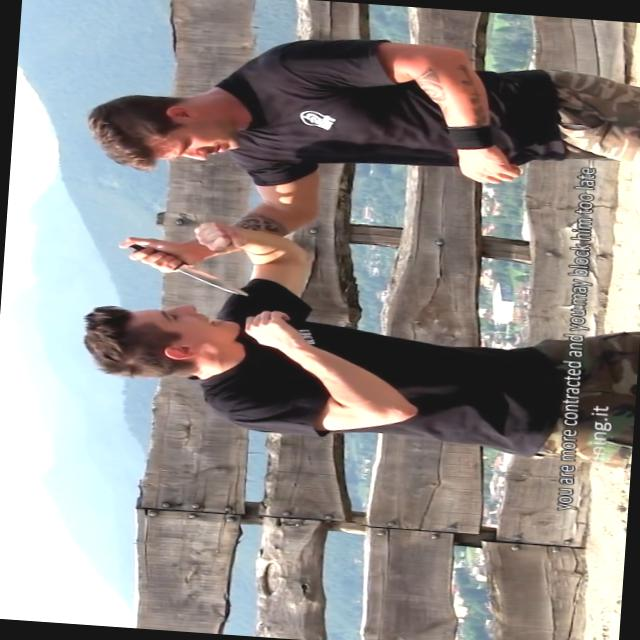knife: (106, 234, 258, 298)
